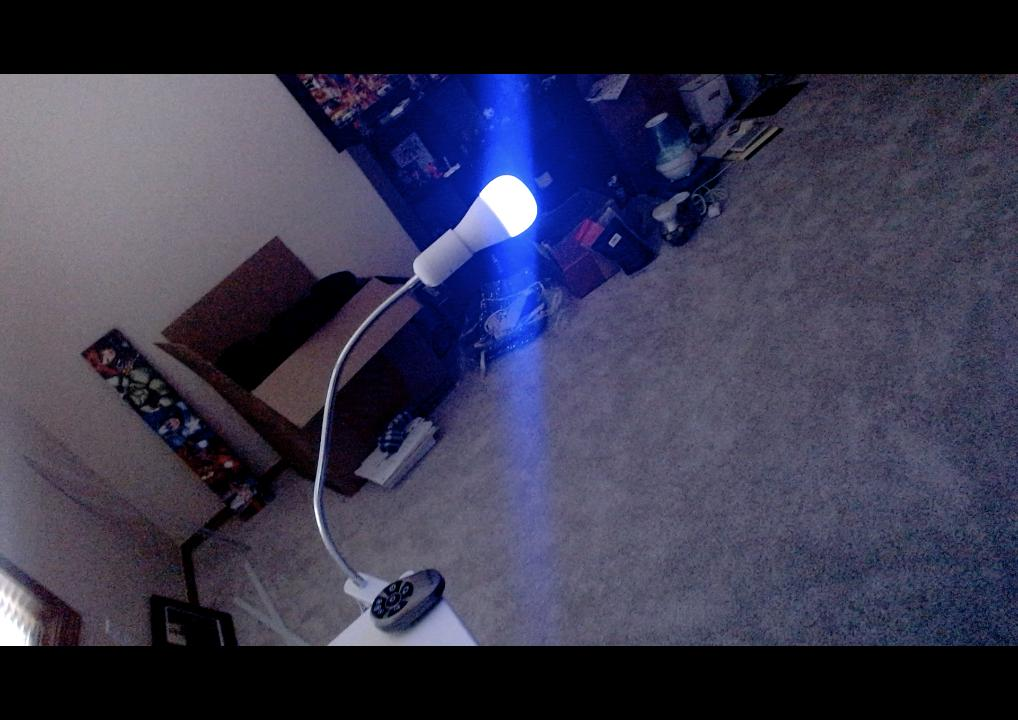TubeLight: (453, 174, 536, 250)
